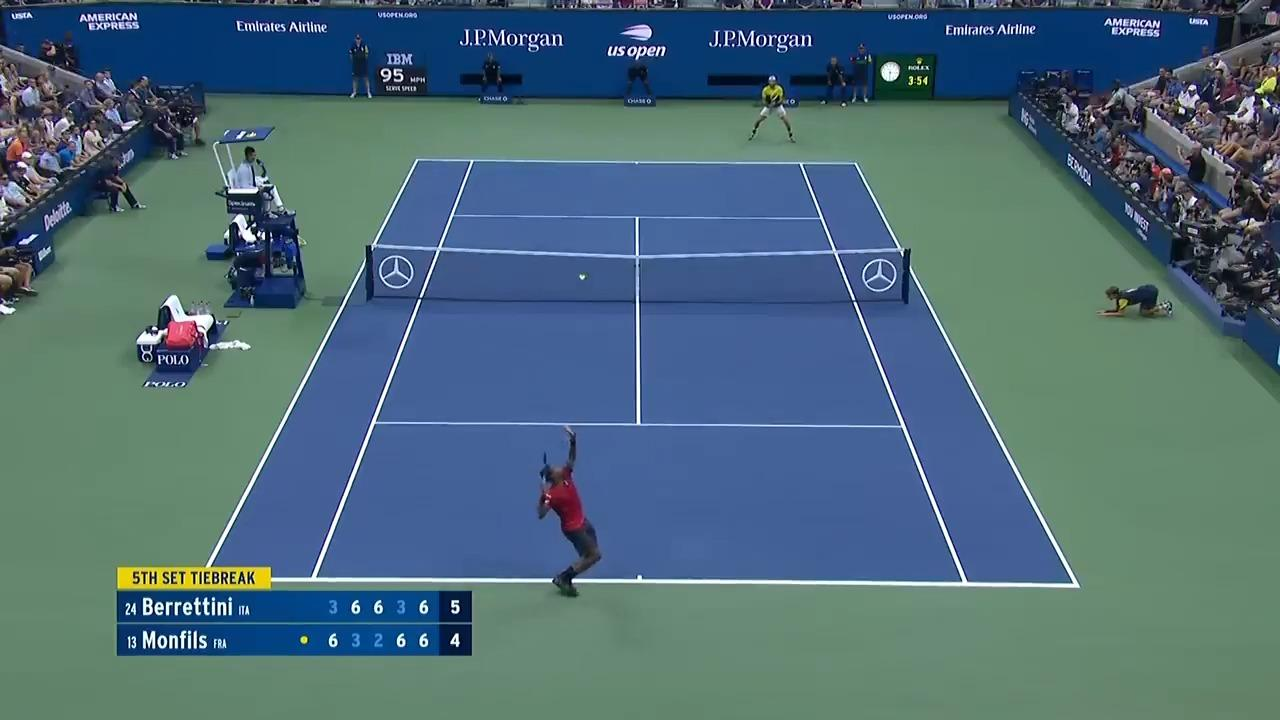tennis ball: (580, 272, 586, 280)
